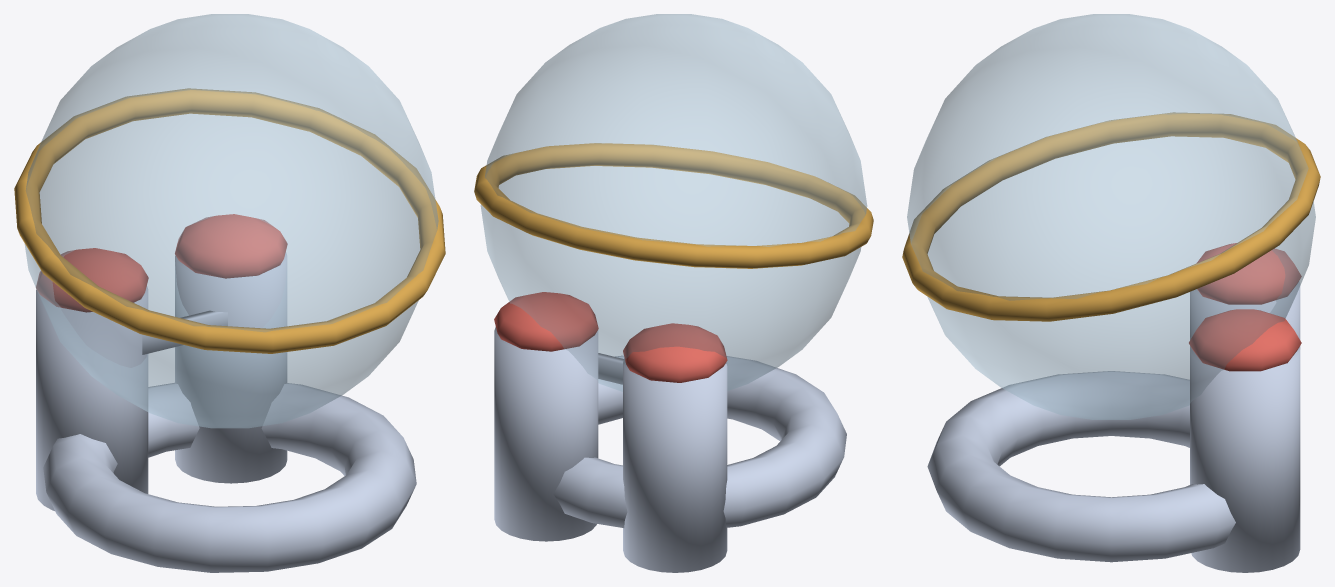
The model's file is opera_astronaut_outfit.glb.
The picture shows the model from 3 angles, left to right: view 1: azimuth 30°, elevation 25°; view 2: azimuth 150°, elevation 25°; view 3: azimuth 270°, elevation 25°; orthographic projection. The views are drawn at different scales.
Visible parts, largest first — view 1: Helmet, Collar, HelmetRim, Tank1, Tank-1, TankCap1, TankCap-1, Strap; view 2: Helmet, Tank-1, Collar, HelmetRim, Tank1, TankCap-1, TankCap1, Strap; view 3: Helmet, Collar, HelmetRim, Tank1, TankCap1, TankCap-1, Tank-1.
Part boxes in pixels (x1,y1,x2,y2): Helmet: [24, 14, 438, 428]; Collar: [43, 383, 416, 572]; HelmetRim: [14, 88, 445, 353]; Tank1: [175, 253, 287, 483]; Tank-1: [36, 286, 148, 510]; TankCap1: [175, 214, 287, 278]; TankCap-1: [36, 248, 148, 312]; Strap: [142, 310, 227, 354]; Helmet: [480, 14, 867, 391]; Tank-1: [623, 358, 727, 572]; Collar: [553, 356, 846, 527]; HelmetRim: [474, 143, 873, 268]; Tank1: [494, 327, 598, 541]; TankCap-1: [623, 323, 727, 382]; TankCap1: [494, 292, 598, 351]; Strap: [598, 353, 623, 384]; Helmet: [907, 14, 1315, 419]; Collar: [927, 371, 1235, 562]; HelmetRim: [902, 112, 1320, 321]; Tank1: [1190, 347, 1300, 572]; TankCap1: [1189, 309, 1301, 371]; TankCap-1: [1197, 243, 1301, 304]; Tank-1: [1190, 281, 1300, 349].
Size of the model in its own units: 2.72 by 3.4 by 2.66.
